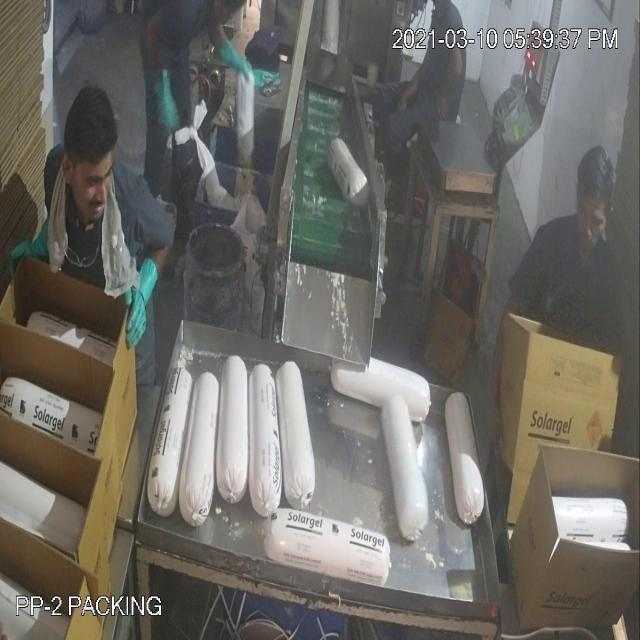Gloves: (46, 111, 504, 378)
